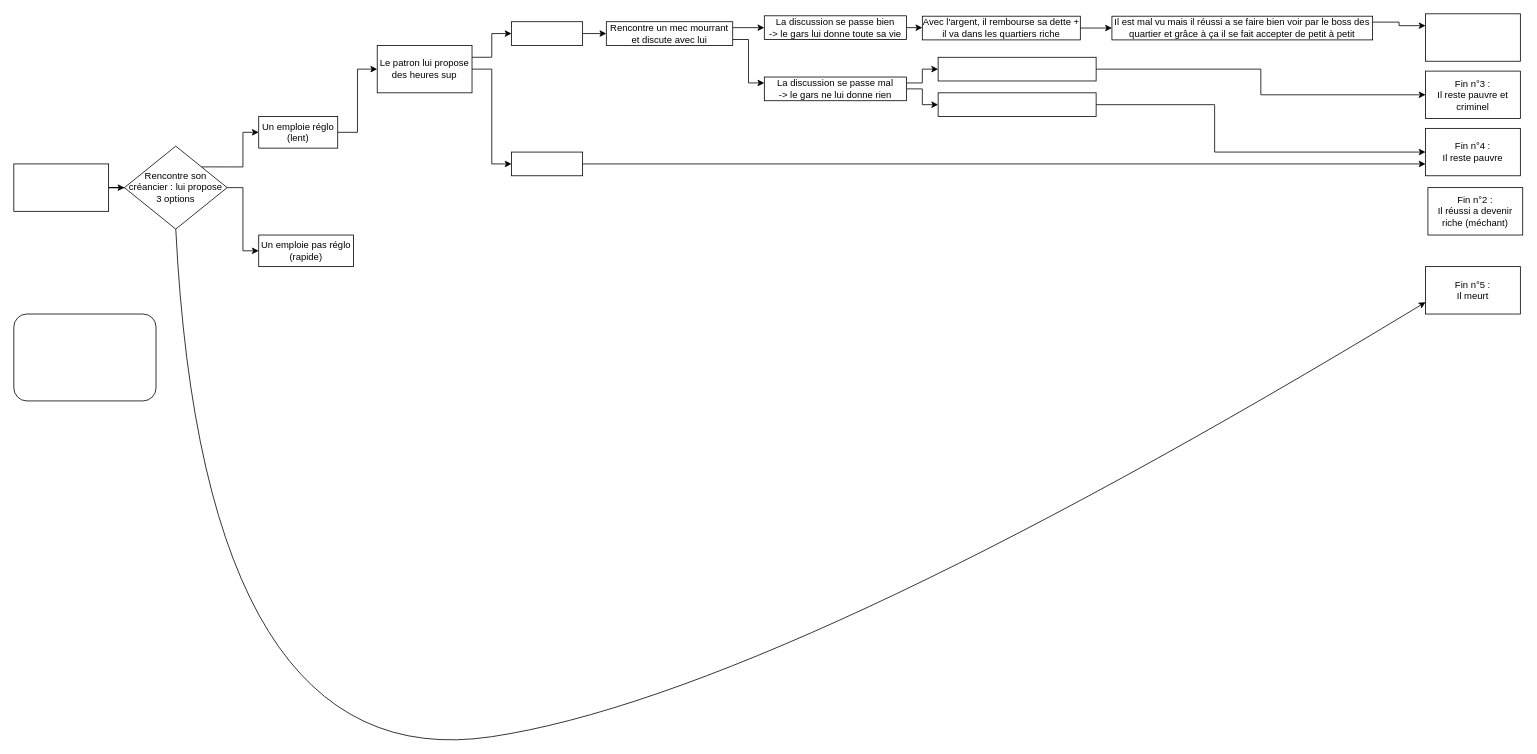
The diagram is 1537 pixels wide and 754 high, and some of its shapes have lost their labels. The centre of each missing label's shape, as x and y in pixels:
"Accepte" belongs at (x=547, y=33).
"Fin n°1 : Il réussi a devenir riche (gentil)" belongs at (x=1472, y=37).
"Il ne prend pas l'argernt" belongs at (x=1016, y=104).
"Il pique l'argent mais ya pas de testament" belongs at (x=1016, y=68).
"Ouvrier pauvre dont la mère meurt. Il hérite d'une dette et doit la rembourser" belongs at (x=61, y=187).
"Perso : Créancier le gars mourrant" belongs at (x=84, y=357).
"Refuse" belongs at (x=547, y=163).
